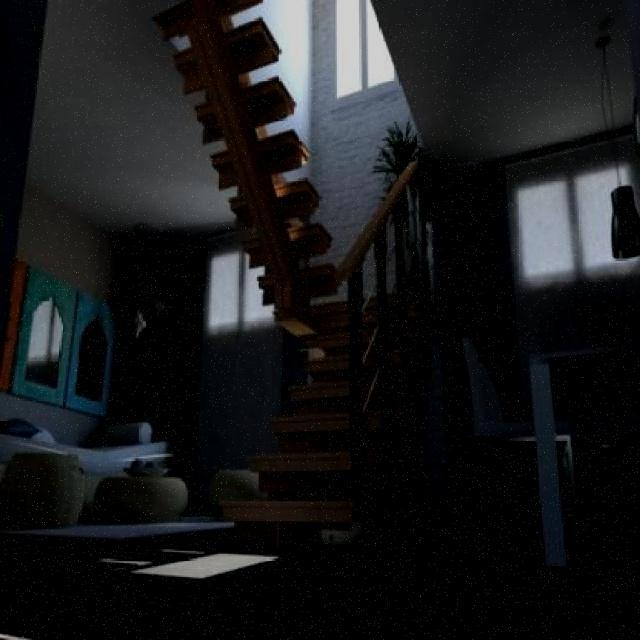stair: (155, 0, 437, 546)
